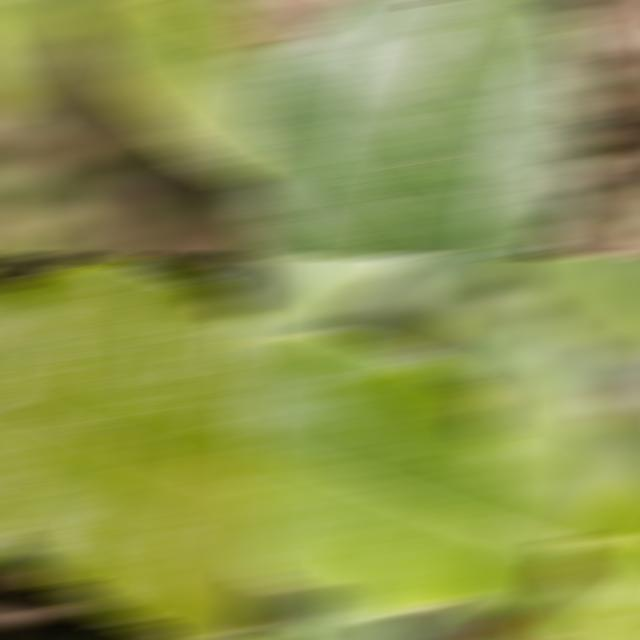Leaf: (0, 259, 261, 638), (237, 332, 566, 617), (237, 2, 592, 254), (76, 2, 261, 182), (483, 359, 600, 533), (495, 258, 640, 360), (0, 2, 94, 120), (564, 477, 640, 609), (290, 258, 425, 319), (574, 580, 640, 638)
